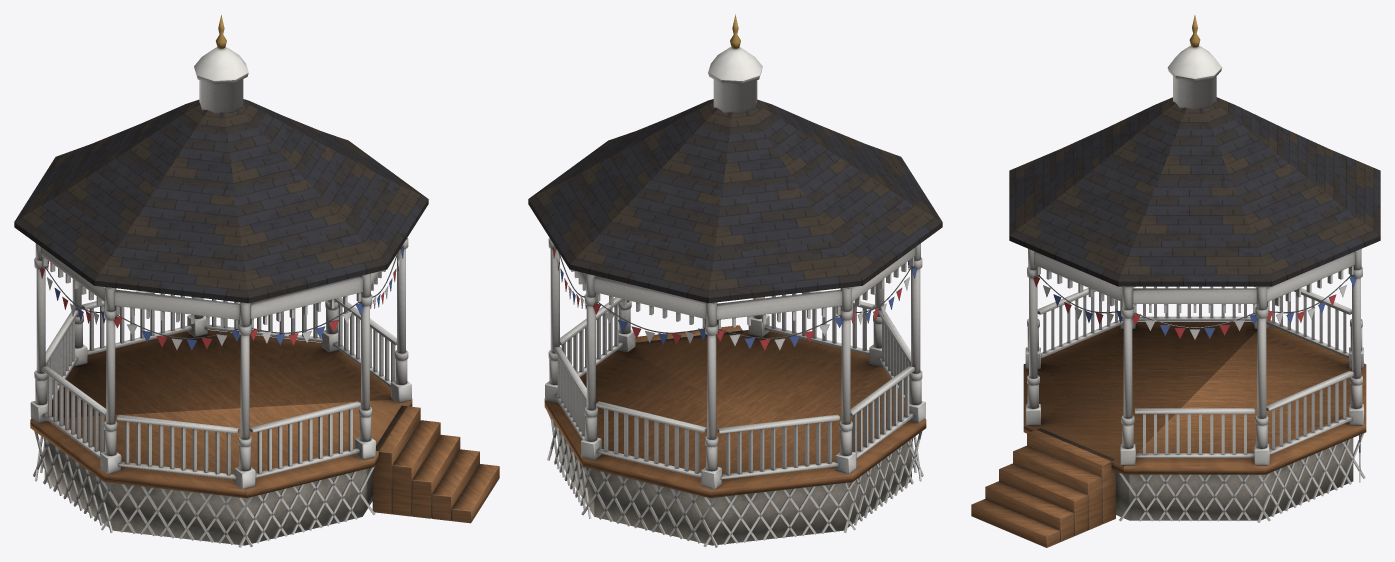
Rendered from WFBandstand.fbx.
3 renders of one model, left to right at view 1: azimuth 30°, elevation 25°; view 2: azimuth 150°, elevation 25°; view 3: azimuth 270°, elevation 25°, orthographic. The views are drawn at different scales.
Parts seen in each view (by area): view 1: WFBandstand_Main, WFBandstand_Roof; view 2: WFBandstand_Main, WFBandstand_Roof; view 3: WFBandstand_Main, WFBandstand_Roof.
Boxes of the visible parts, x1,y1,x2,y2 form: WFBandstand_Main: [30, 15, 499, 547]; WFBandstand_Roof: [14, 99, 428, 303]; WFBandstand_Main: [544, 14, 926, 547]; WFBandstand_Roof: [528, 99, 942, 303]; WFBandstand_Main: [971, 15, 1366, 547]; WFBandstand_Roof: [1009, 97, 1380, 286].
Bounding box in the file's own units: 1873 × 2220 × 1873.
